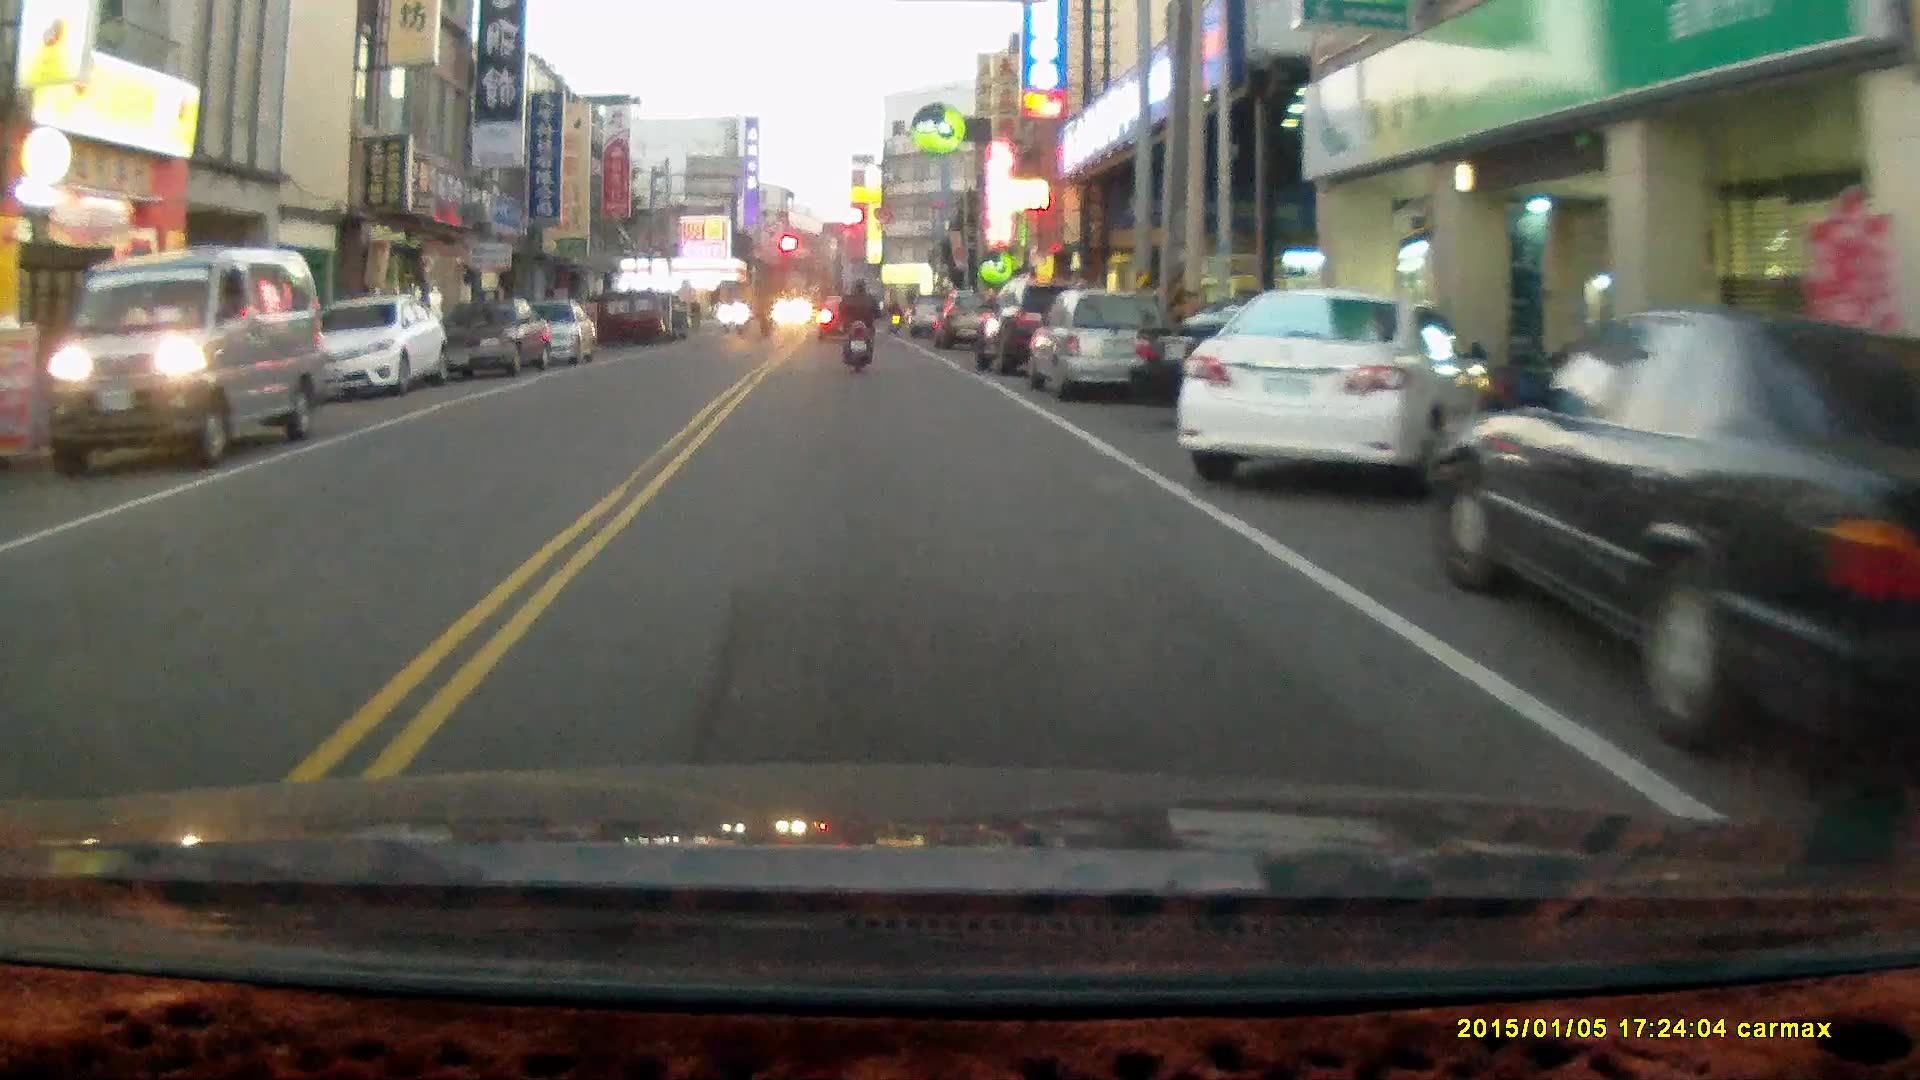rider: (837, 277, 882, 378), (728, 297, 751, 336)
vehicle: (1428, 310, 1920, 767), (1177, 290, 1484, 500), (40, 247, 324, 471), (1125, 301, 1438, 432), (1027, 292, 1176, 396), (303, 295, 449, 401), (969, 286, 1112, 379), (435, 298, 555, 384), (503, 302, 596, 374)
